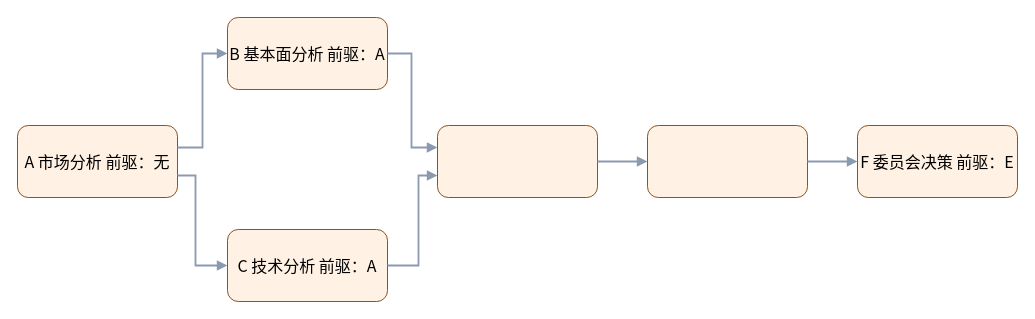
Some shapes in this 1035 by 319 pixel diagram are drawn without their labels. The box of each missing label's shape, as (x1, y1, x2, y2) in pixels:
D 风险评估 前驱：B · C: (436, 124, 598, 198)
E 投资备忘录 前驱：D: (646, 124, 808, 198)
